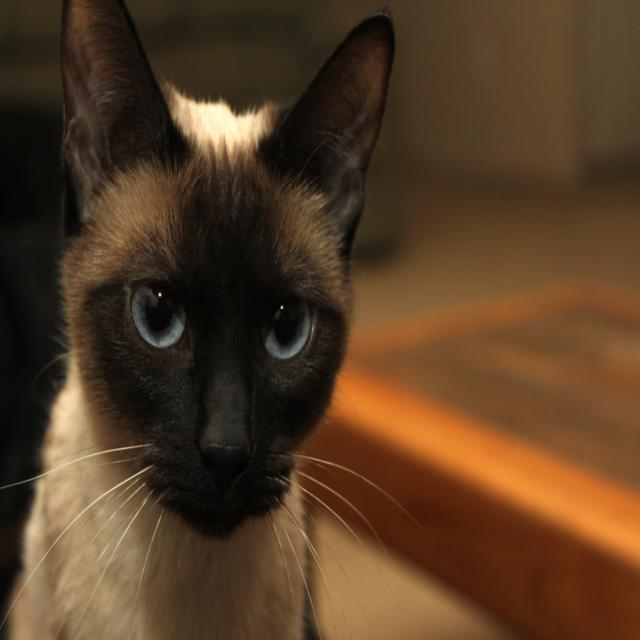Cat: (0, 0, 432, 639)
